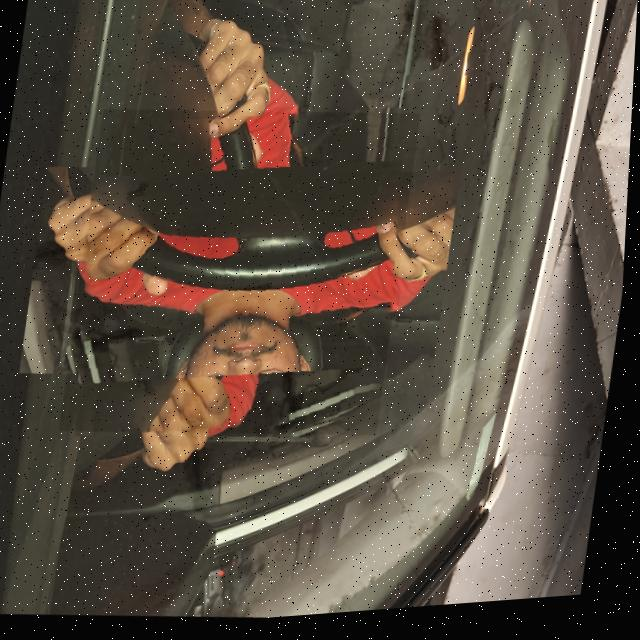no-seatbelt: (61, 92, 422, 460)
